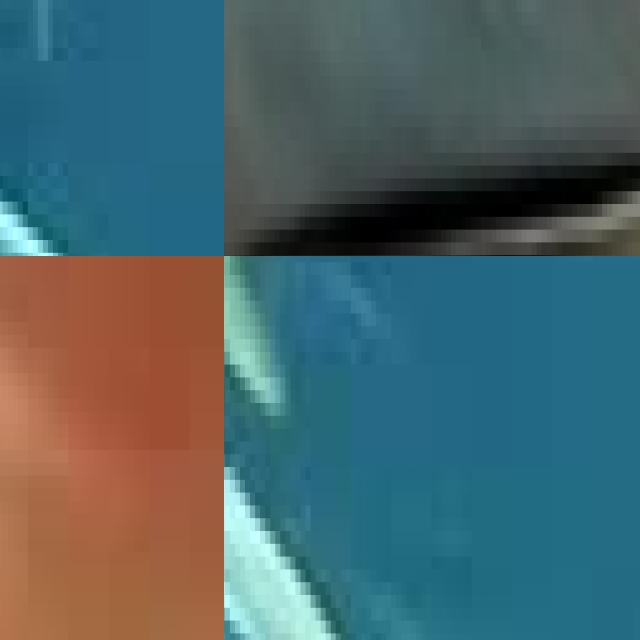fish: (224, 0, 640, 256), (0, 0, 224, 256)
